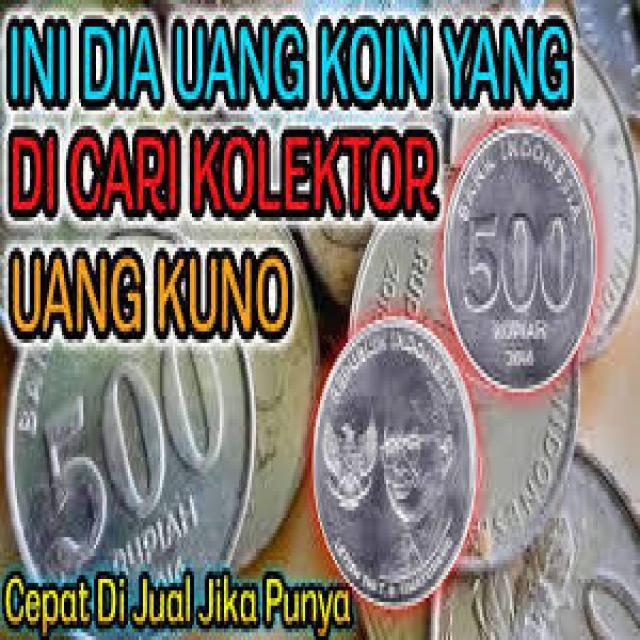500-silver: (441, 116, 606, 394)
